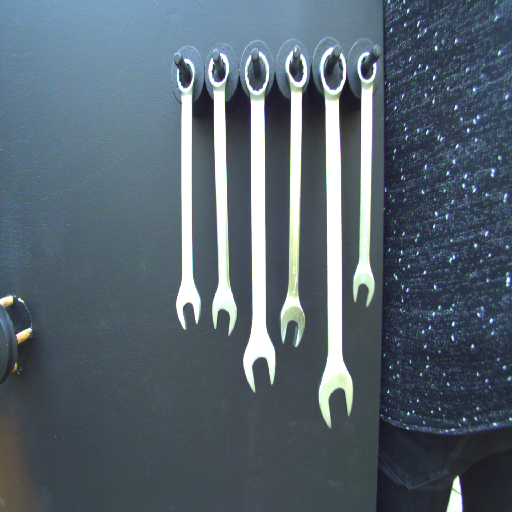bottom: (315, 357, 356, 429), (242, 334, 278, 394), (277, 294, 307, 351), (175, 282, 204, 330), (210, 288, 238, 335), (351, 261, 377, 306)
top: (318, 46, 347, 101), (244, 52, 272, 99), (283, 46, 309, 93), (205, 51, 232, 91), (173, 55, 198, 98), (356, 46, 378, 88)
